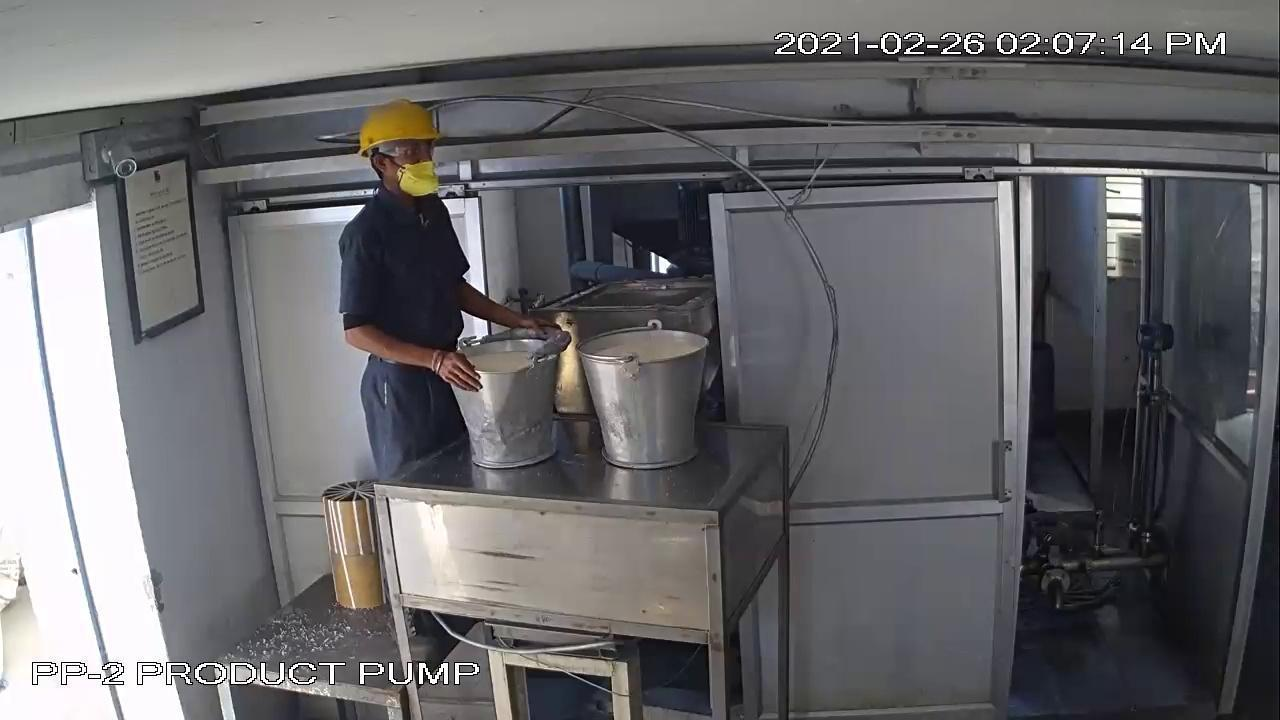helmet: (350, 94, 458, 160)
